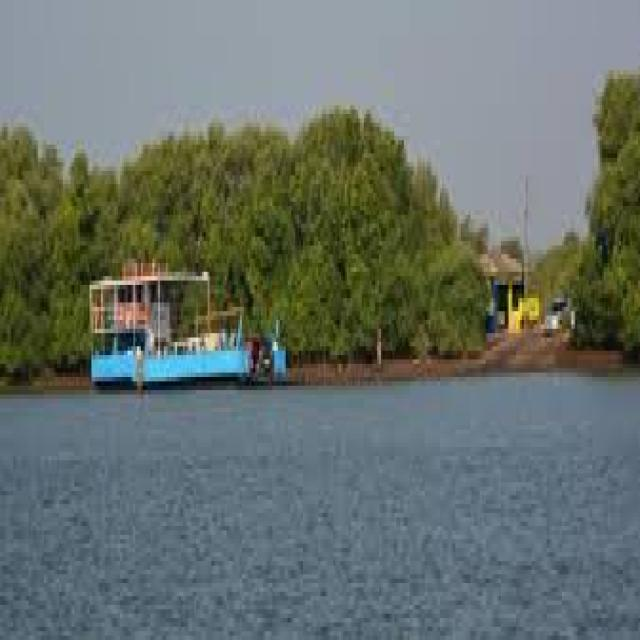fishing boat: (84, 246, 281, 386)
